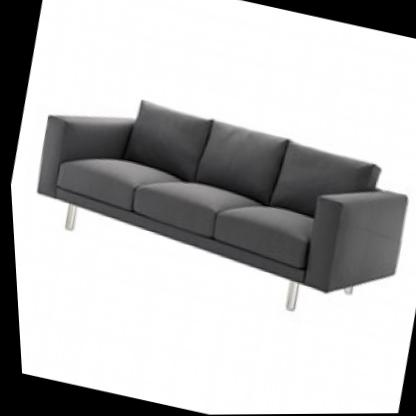Sofa: (3, 54, 416, 354)
